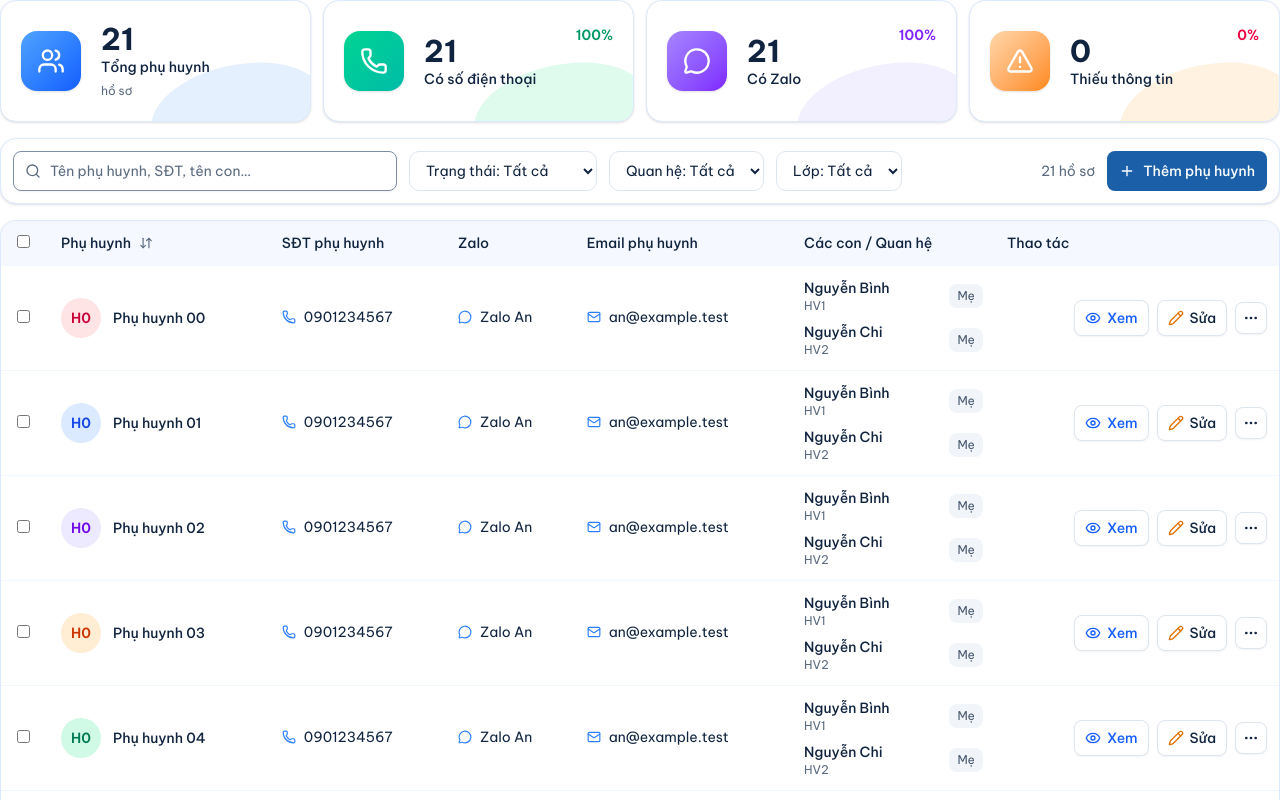
searches and paginates within a card popup and opens parent detail
Click the button with aria-label "Tổng phụ huynh: 21" at (156, 61), box 0,0 -> 311,122
(page scrolled)
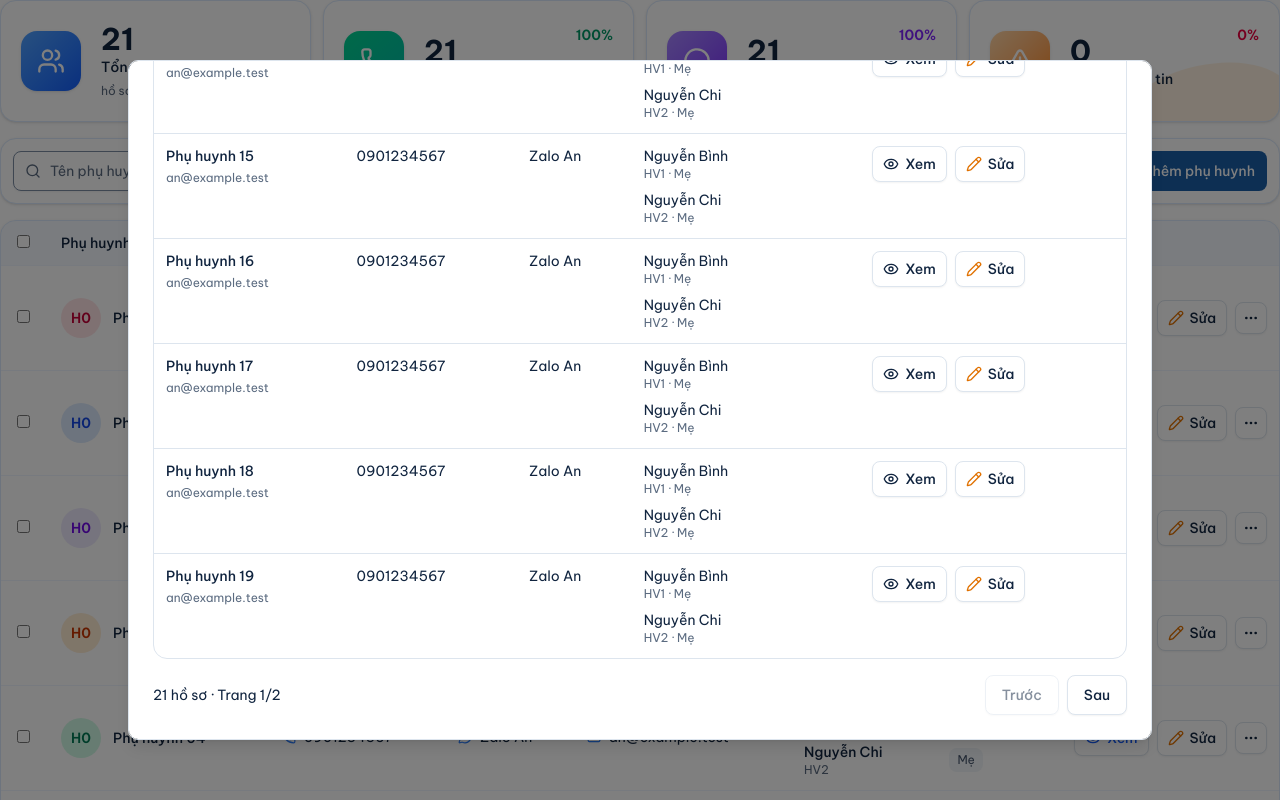
Click the button "Sau" at (1097, 695), box 1067,675 -> 1127,715
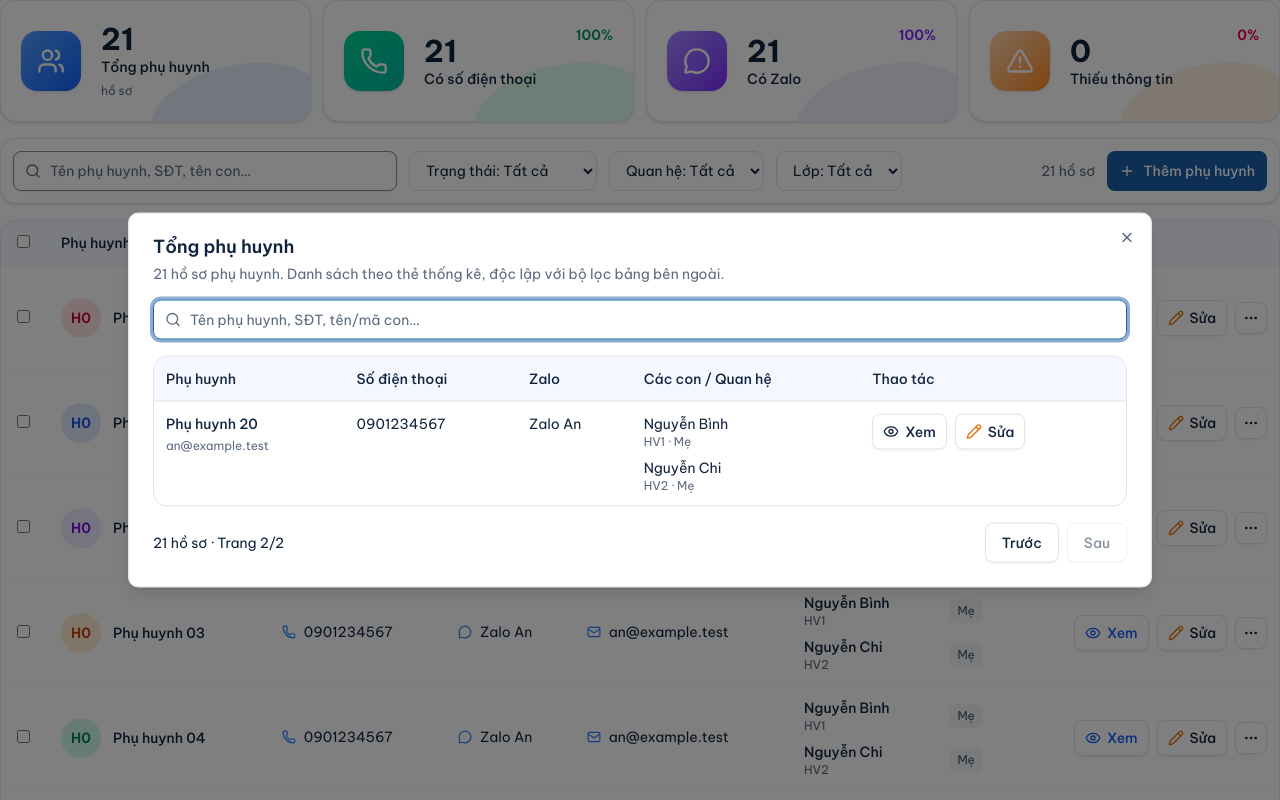
Type "Phụ huynh 00" into the field named "Tìm trong popup phụ huynh" at (640, 320), box 153,300 -> 1127,340
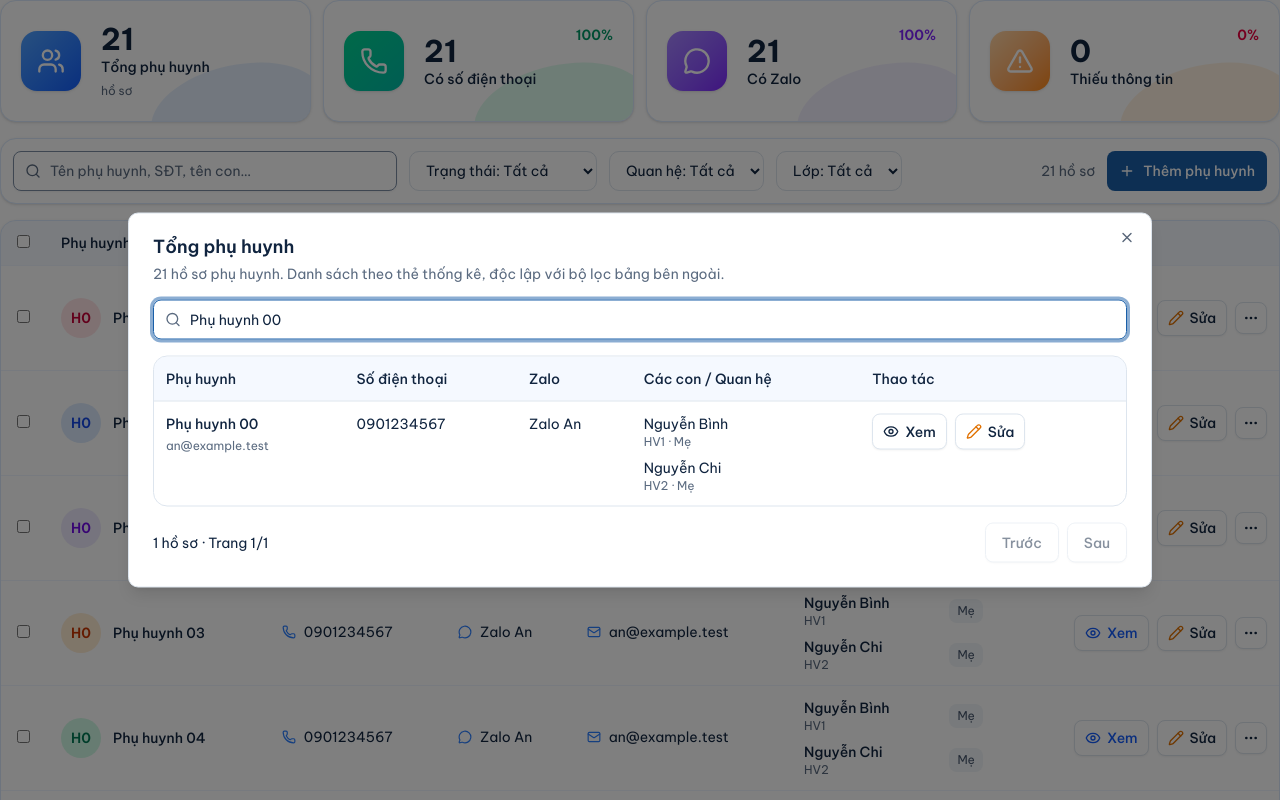
Click the button with aria-label "Xem chi tiết phụ huynh Phụ huynh 00" at (909, 432), box 872,414 -> 947,450
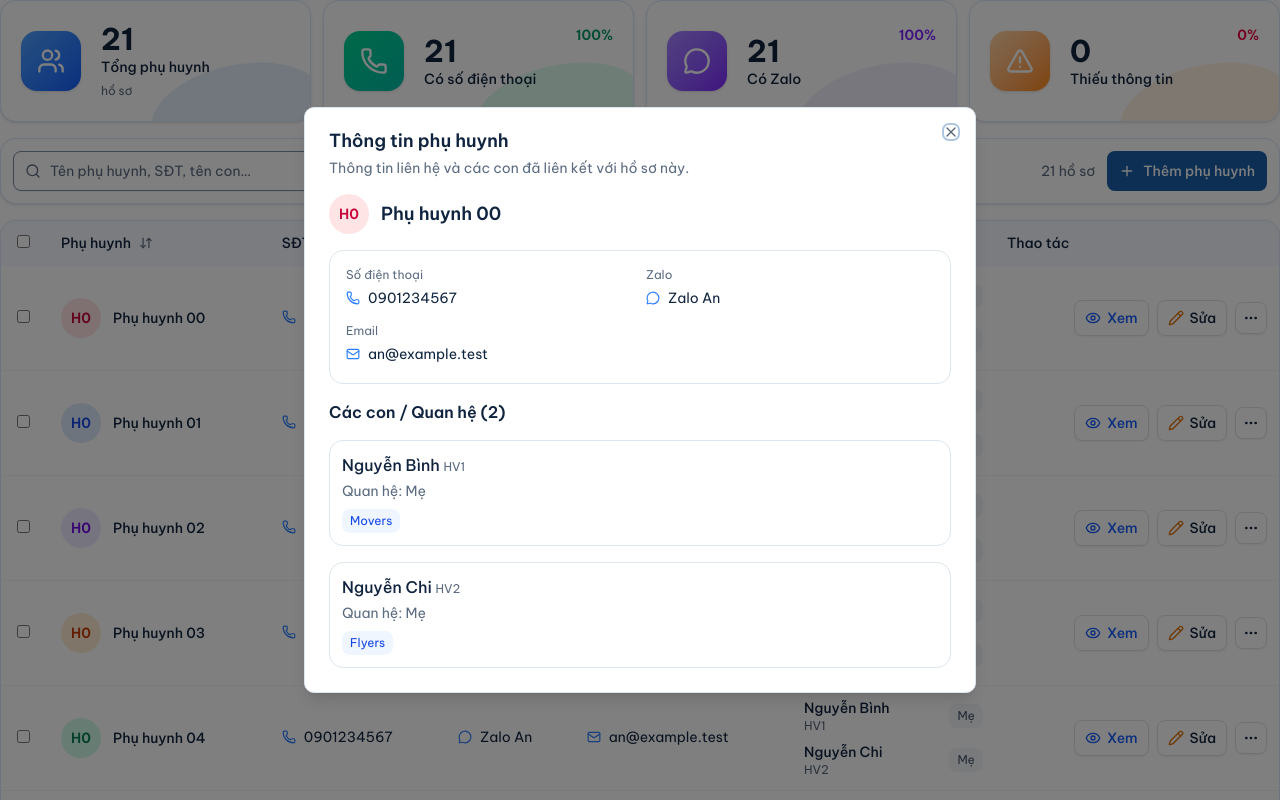
Result: the heading "Thông tin phụ huynh" is shown at 329,129 -> 509,152
